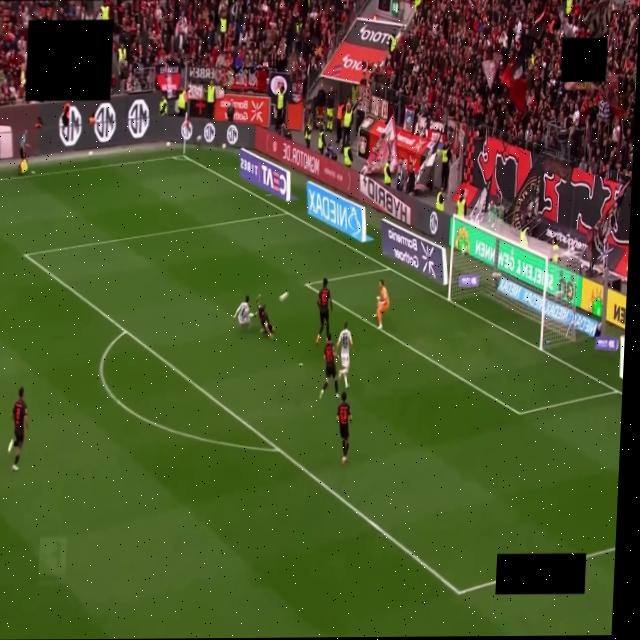ball: (279, 292, 289, 302)
player: (7, 387, 27, 471), (319, 333, 338, 397), (336, 391, 351, 466), (335, 322, 352, 388), (316, 278, 331, 344), (373, 280, 388, 329), (255, 295, 272, 338), (233, 295, 253, 326)
